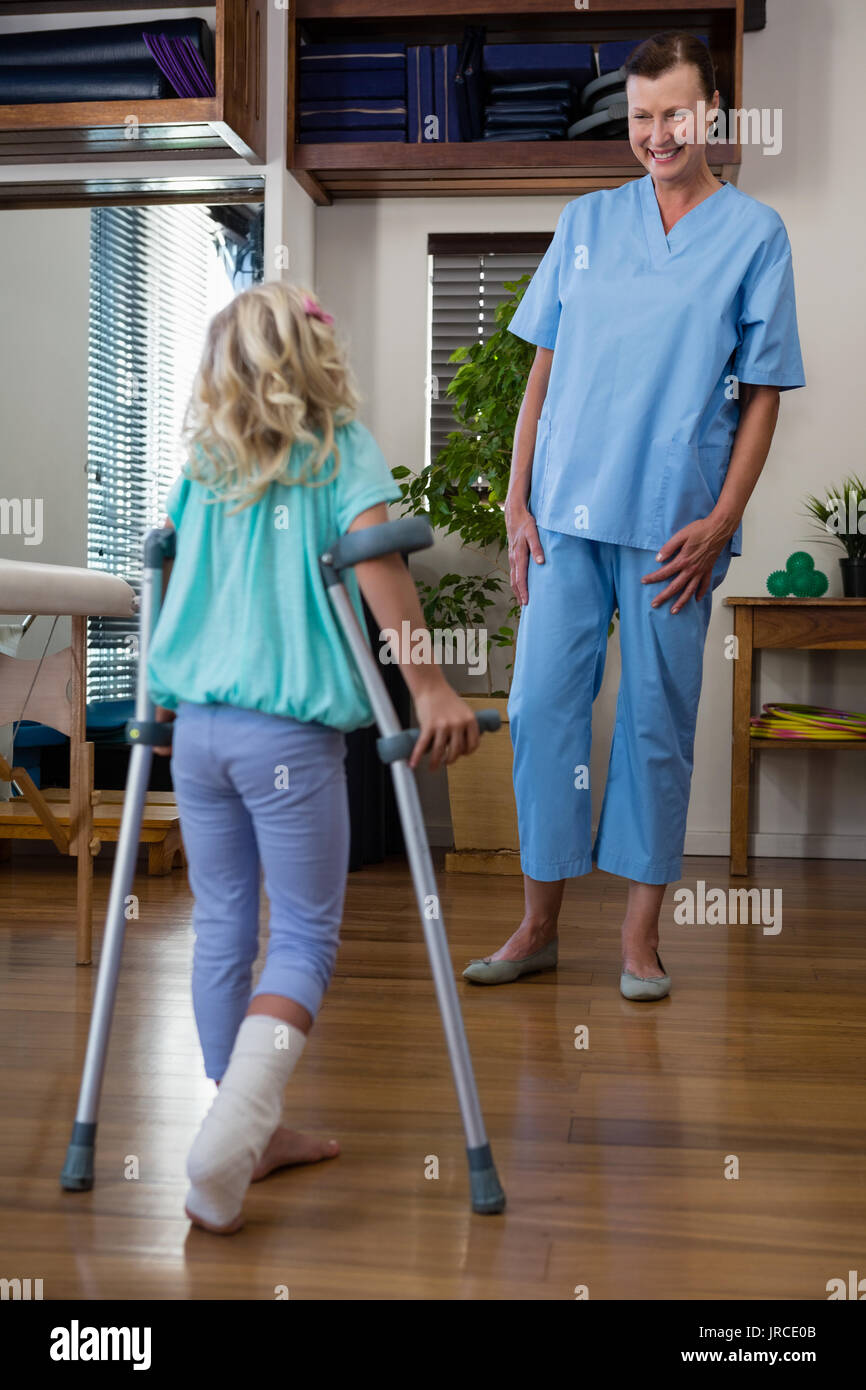crutches: (64, 274, 512, 1238)
